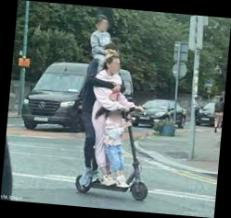multiple: (73, 13, 165, 202)
